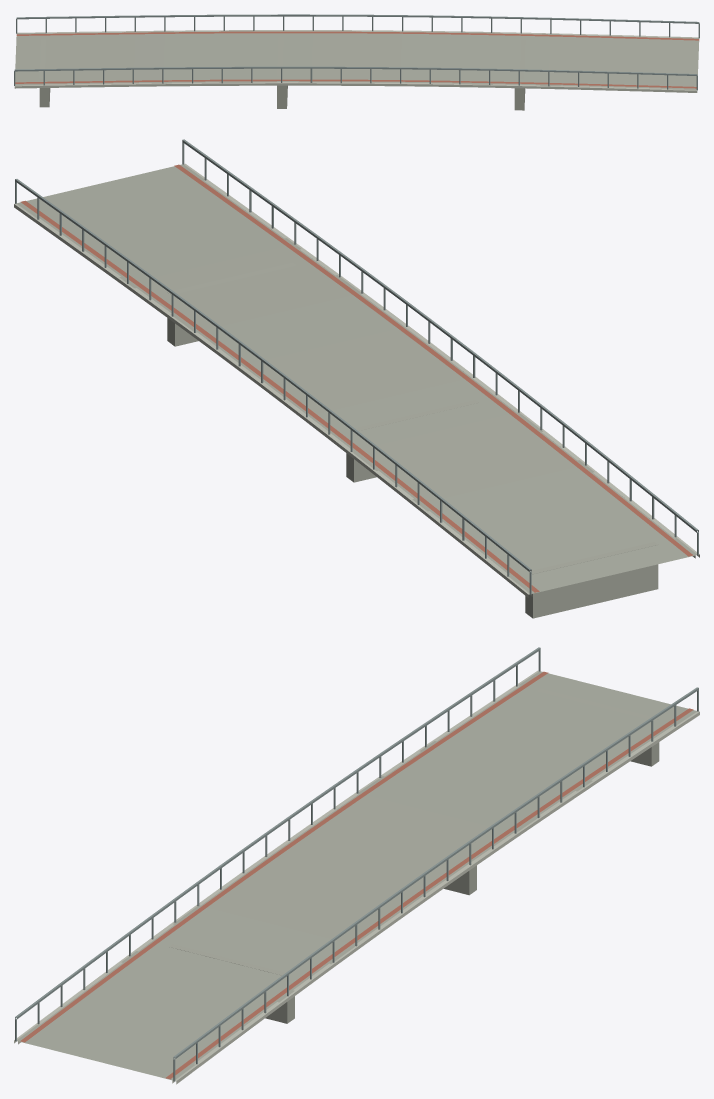
Rendered from infra-lake-bridge-760193721.glb.
The picture shows the model from 3 angles, top to bottom: view 1: azimuth 30°, elevation 25°; view 2: azimuth 150°, elevation 25°; view 3: azimuth 270°, elevation 25°; orthographic projection. The views are drawn at different scales.
Visible parts, largest first — view 1: infra-lake-bridge-760193721; view 2: infra-lake-bridge-760193721; view 3: infra-lake-bridge-760193721.
Part boxes in pixels (box(x1,y1,x2,y2)): infra-lake-bridge-760193721: box(14, 14, 699, 110); infra-lake-bridge-760193721: box(14, 139, 699, 618); infra-lake-bridge-760193721: box(14, 647, 699, 1084).
Bounding box in the file's own units: 42.16 × 3.48 × 29.76.
